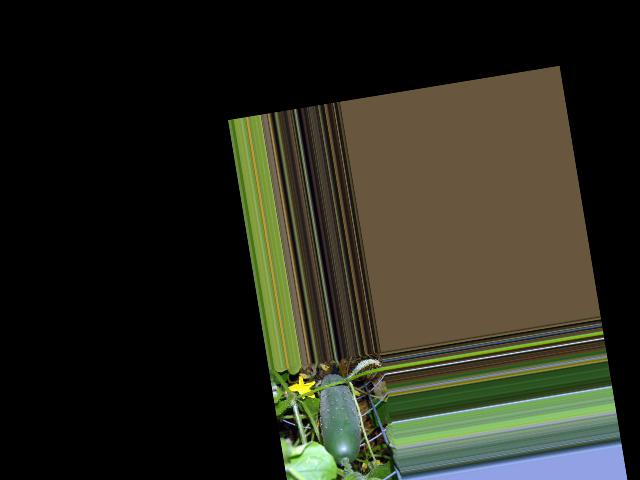cucumber: (312, 371, 367, 467)
